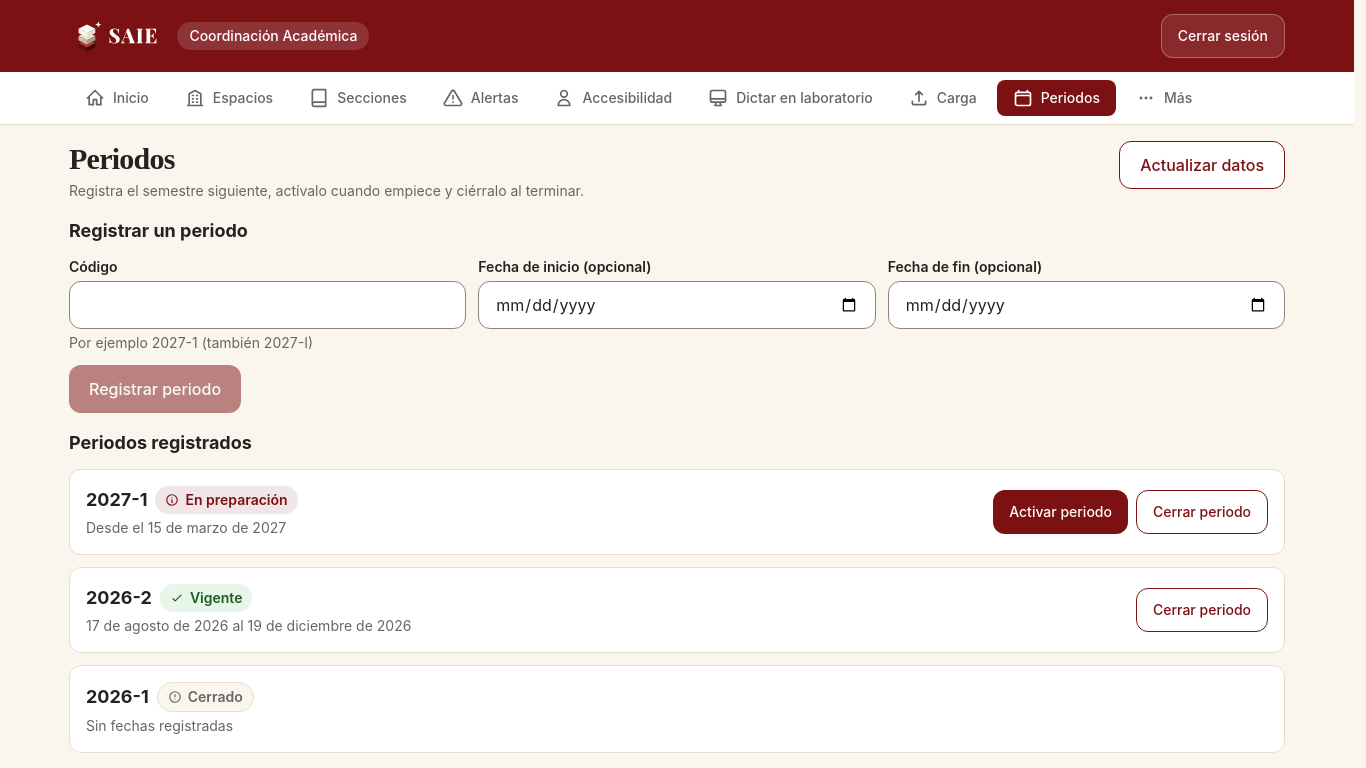
Scenario: Periodos (Issue 4.64) › registra un periodo con sus fechas
The width and height of the screenshot is (1366, 768).
Check: the button "Registrar periodo" is disabled, box [69, 365, 241, 413]
Type "2027-II" into the field labelled "Código Por ejemplo 2027-1 (también 2027-I)" at (268, 305), box [69, 281, 466, 329]
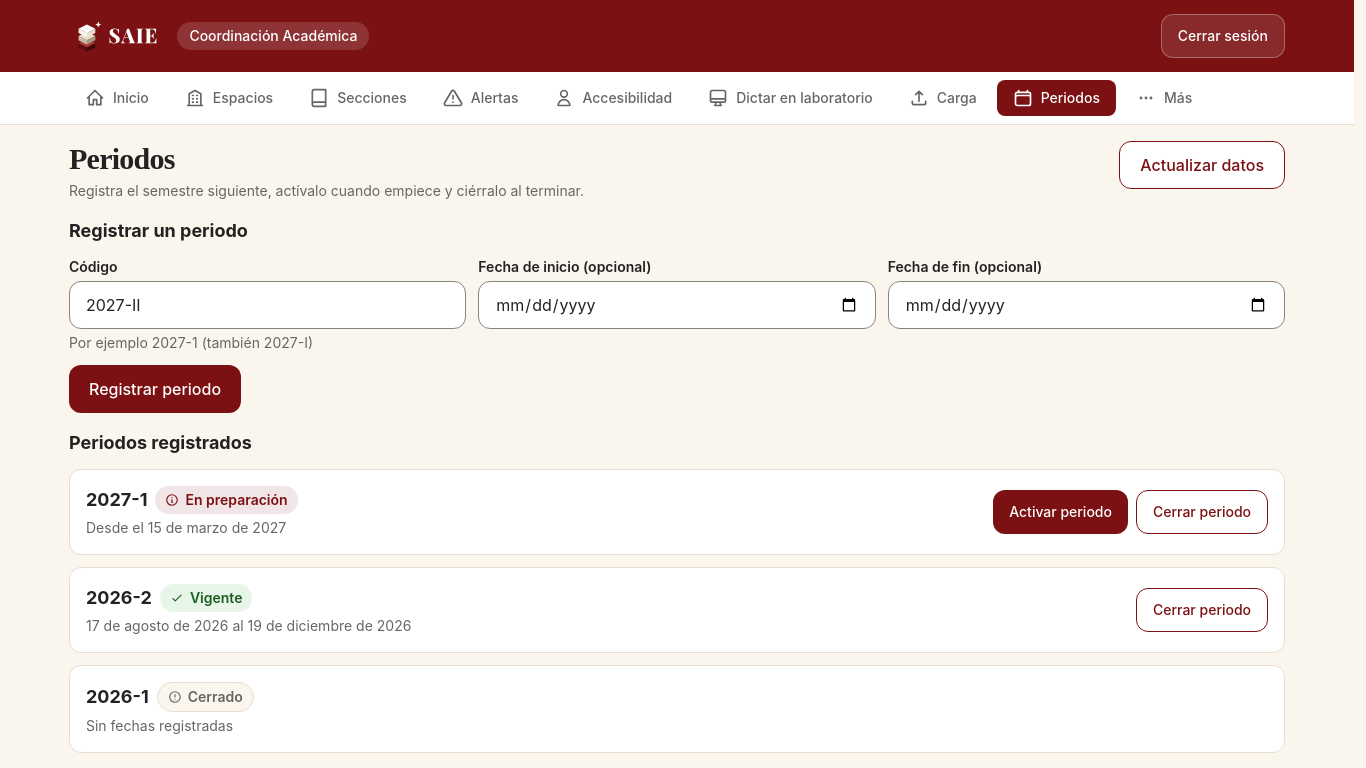
Type "2027-08-16" into the date field labelled "Fecha de inicio (opcional)" at (677, 305), box [478, 281, 876, 329]
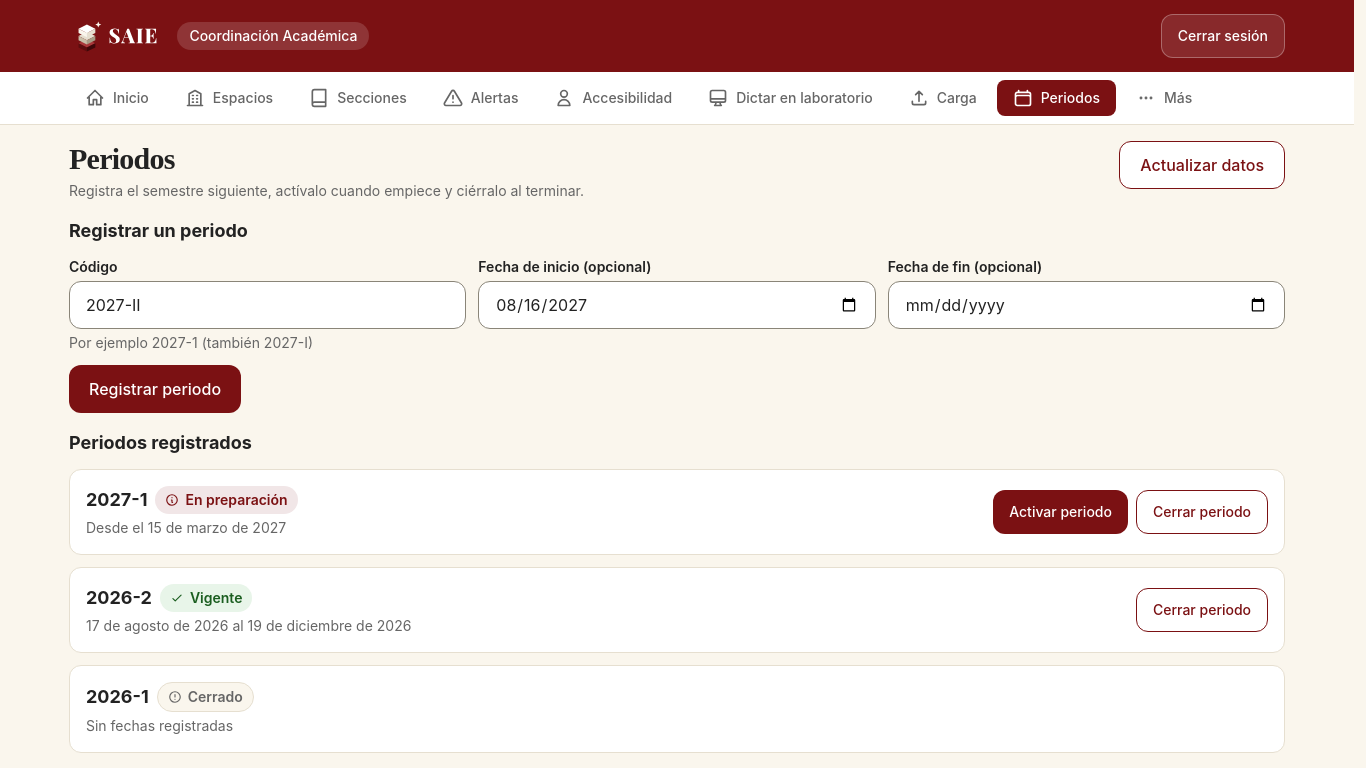
Type "2027-12-18" into the date field labelled "Fecha de fin (opcional)" at (1086, 305), box [888, 281, 1285, 329]
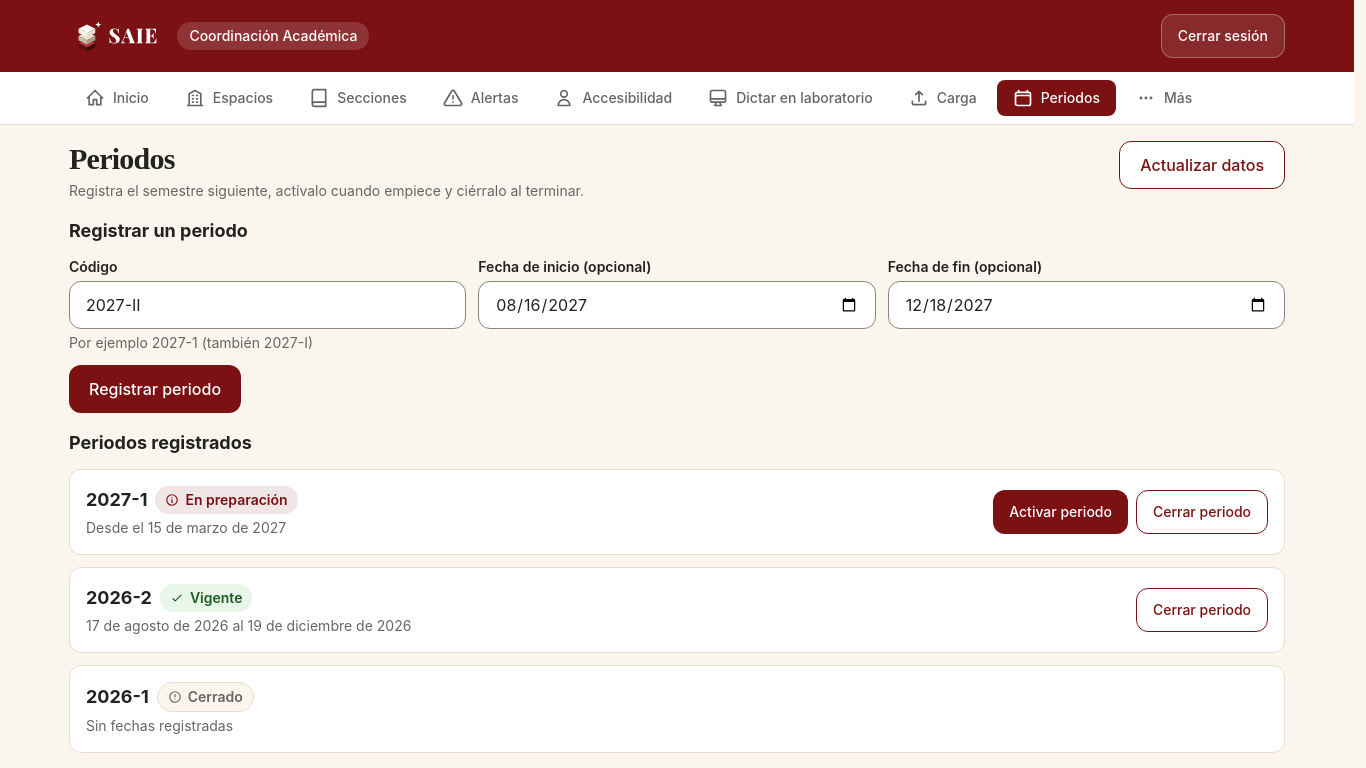
Click the button "Registrar periodo" at (155, 389), box [69, 365, 241, 413]
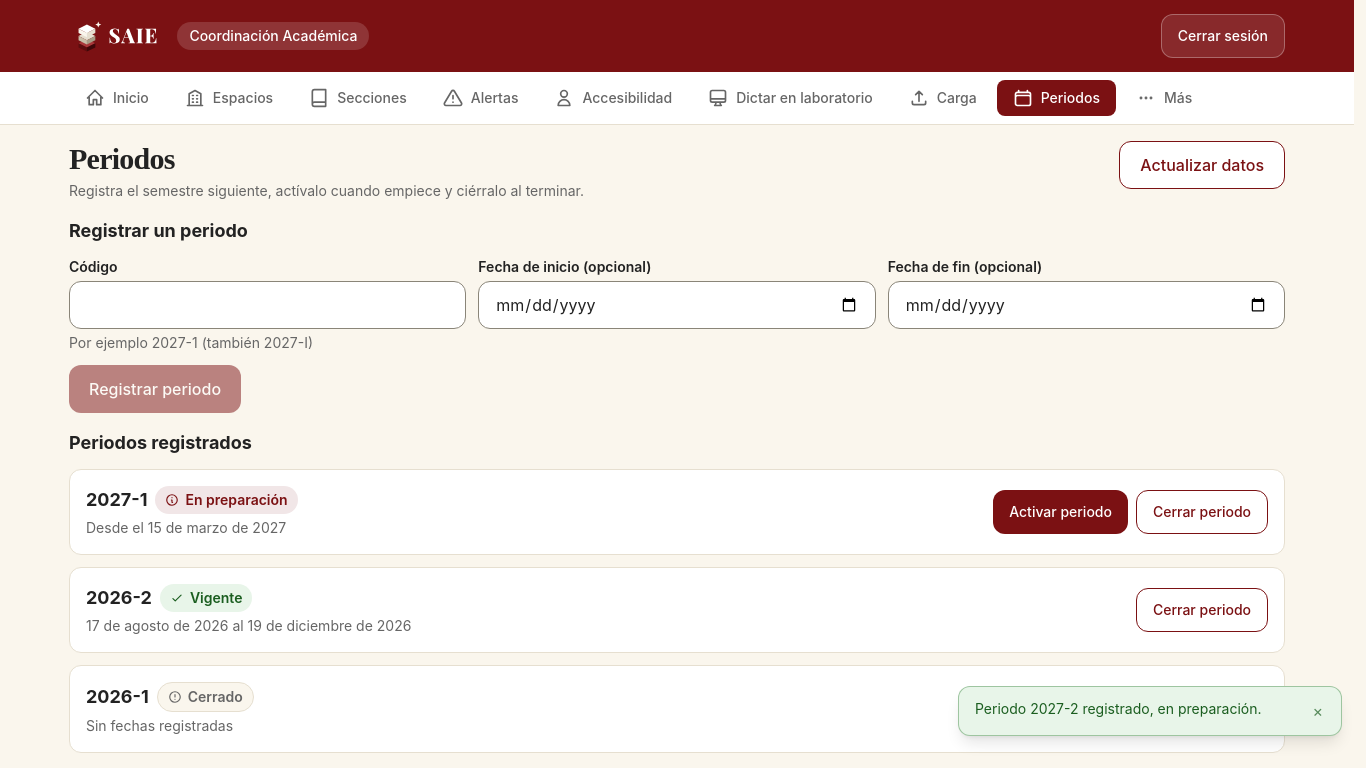
Check: the text "Periodo 2027-2 registrado, en preparación." is shown, box [975, 699, 1294, 719]
